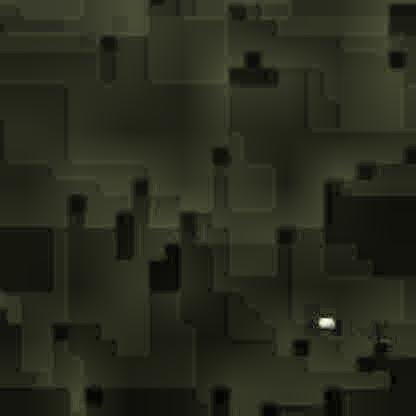golfball: (314, 314, 331, 328)
